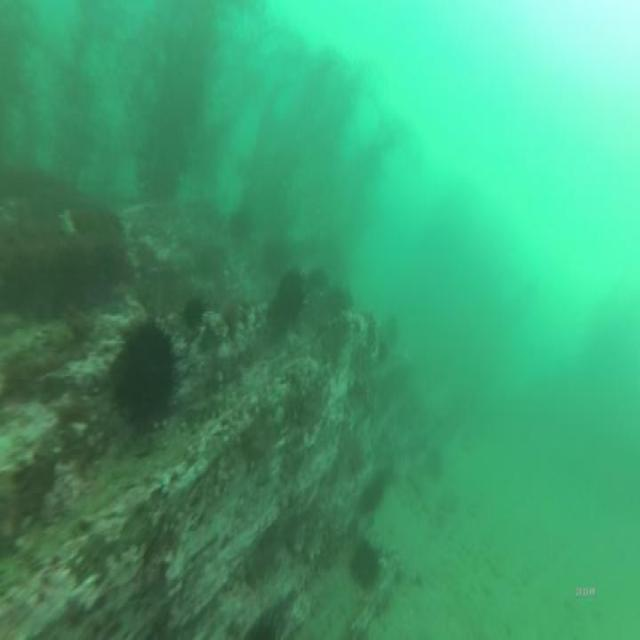echinus: (111, 308, 189, 438), (268, 258, 308, 334), (348, 531, 386, 597)
